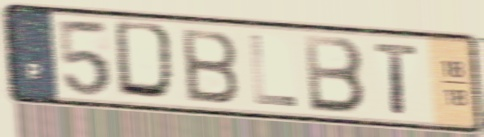5: (55, 18, 115, 100)
B: (301, 32, 368, 117), (178, 25, 242, 107)
D: (112, 18, 182, 106)
L: (246, 31, 300, 109)
T: (371, 39, 422, 118)
